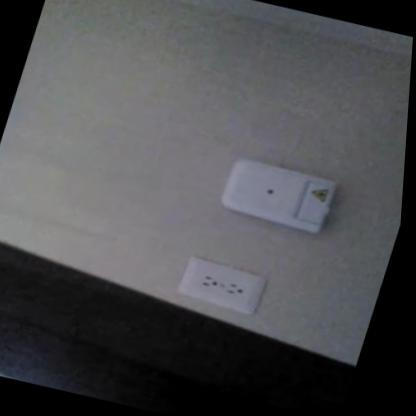OUTLET: (176, 252, 269, 316)
